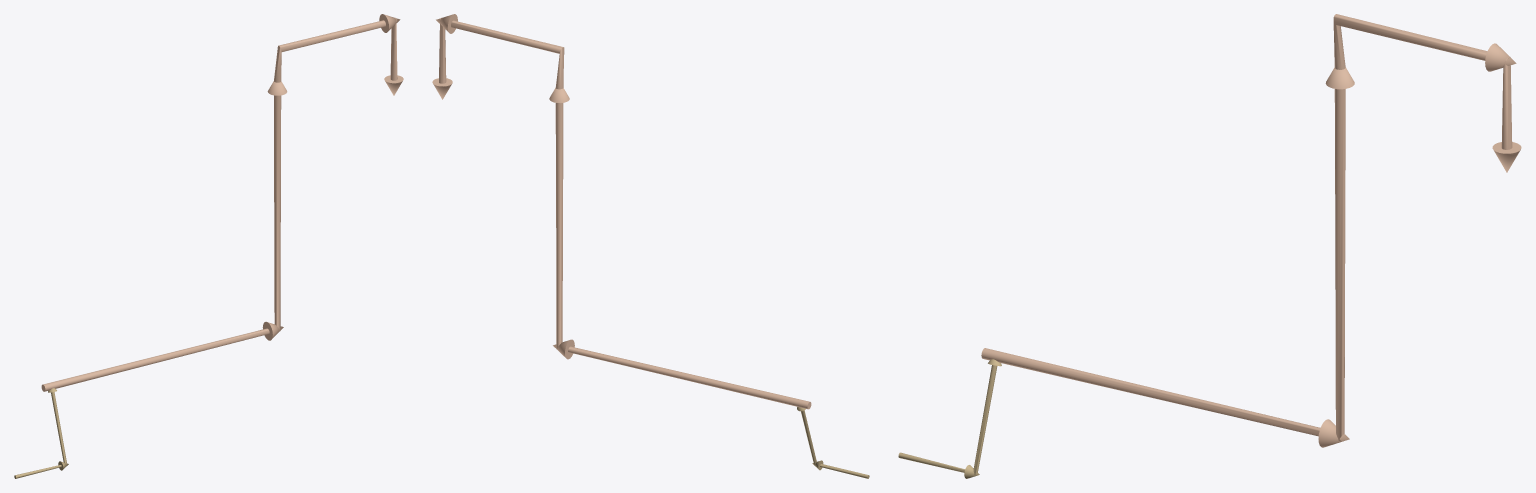
File: dry_scrubber_flow.glb
3 renders of one model, left to right at view 1: azimuth 30°, elevation 25°; view 2: azimuth 150°, elevation 25°; view 3: azimuth 330°, elevation 25°, orthographic. The views are drawn at different scales.
Visible parts, largest first — view 1: flue_gas, sorbent.001; view 2: flue_gas, sorbent.001; view 3: flue_gas, sorbent.001.
Boxes of the visible parts, left/top/right/bottom form: flue_gas: left=41, top=14, right=403, bottom=391; sorbent.001: left=14, top=388, right=68, bottom=478; flue_gas: left=432, top=14, right=811, bottom=409; sorbent.001: left=797, top=407, right=869, bottom=478; flue_gas: left=981, top=14, right=1521, bottom=447; sorbent.001: left=898, top=359, right=1001, bottom=478.
Size of the model in its own units: 4.92 by 4.26 by 0.506.
